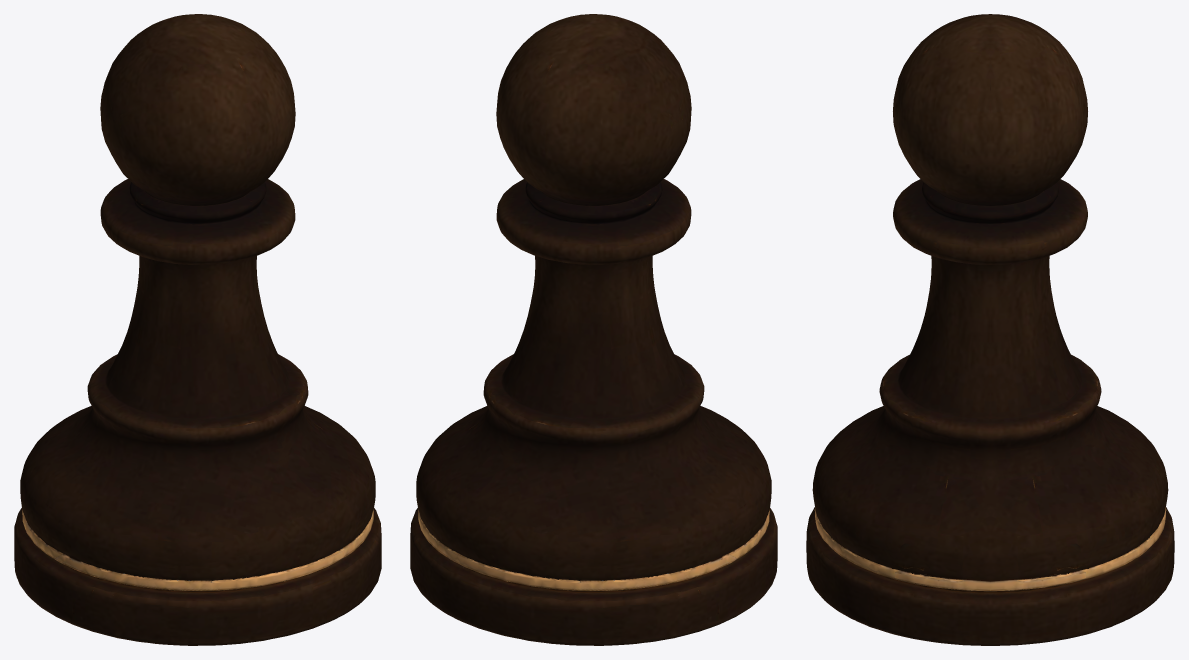
Rendered from 12_pawn_dark.glb.
The picture shows the model from 3 angles, left to right: view 1: azimuth 30°, elevation 25°; view 2: azimuth 150°, elevation 25°; view 3: azimuth 270°, elevation 25°; orthographic projection.
Visible parts, largest first — view 1: world; view 2: world; view 3: world.
Boxes of the visible parts, bbox=[...] form: world: bbox=[14, 14, 381, 645]; world: bbox=[410, 14, 777, 645]; world: bbox=[806, 14, 1174, 645].
Bounding box in the file's own units: 0.6124 × 1 × 0.6125.
1 material, 1 textured.
